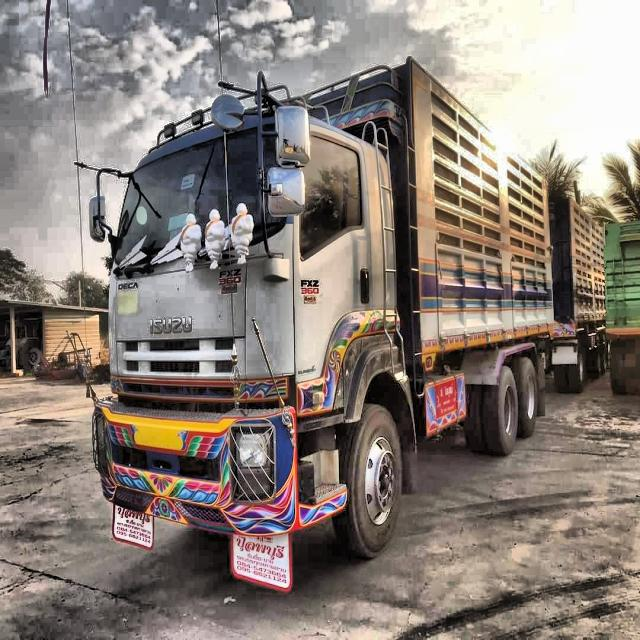trailer: (73, 45, 612, 582)
